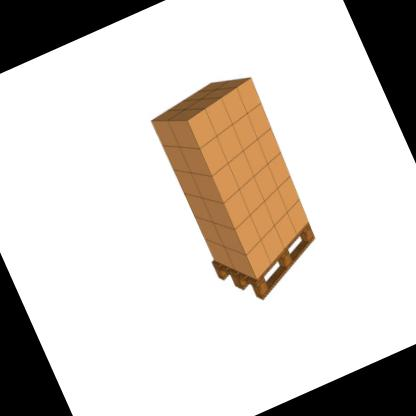BoxFace: (211, 217, 317, 301)
